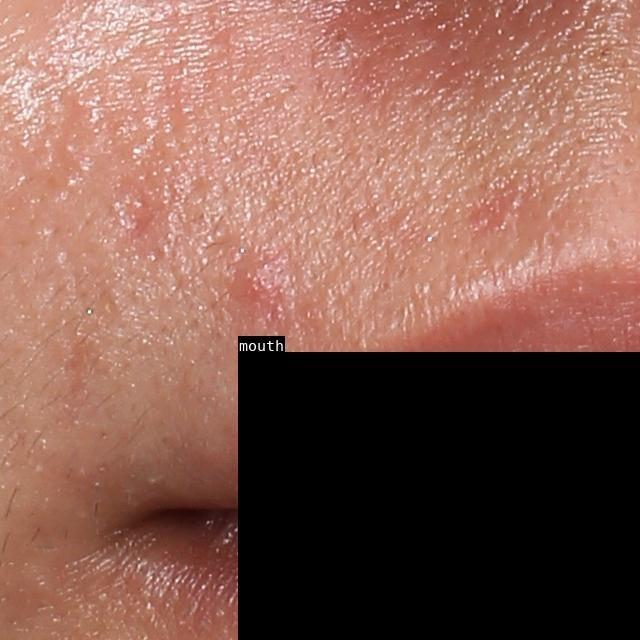papule: (223, 247, 293, 323)
